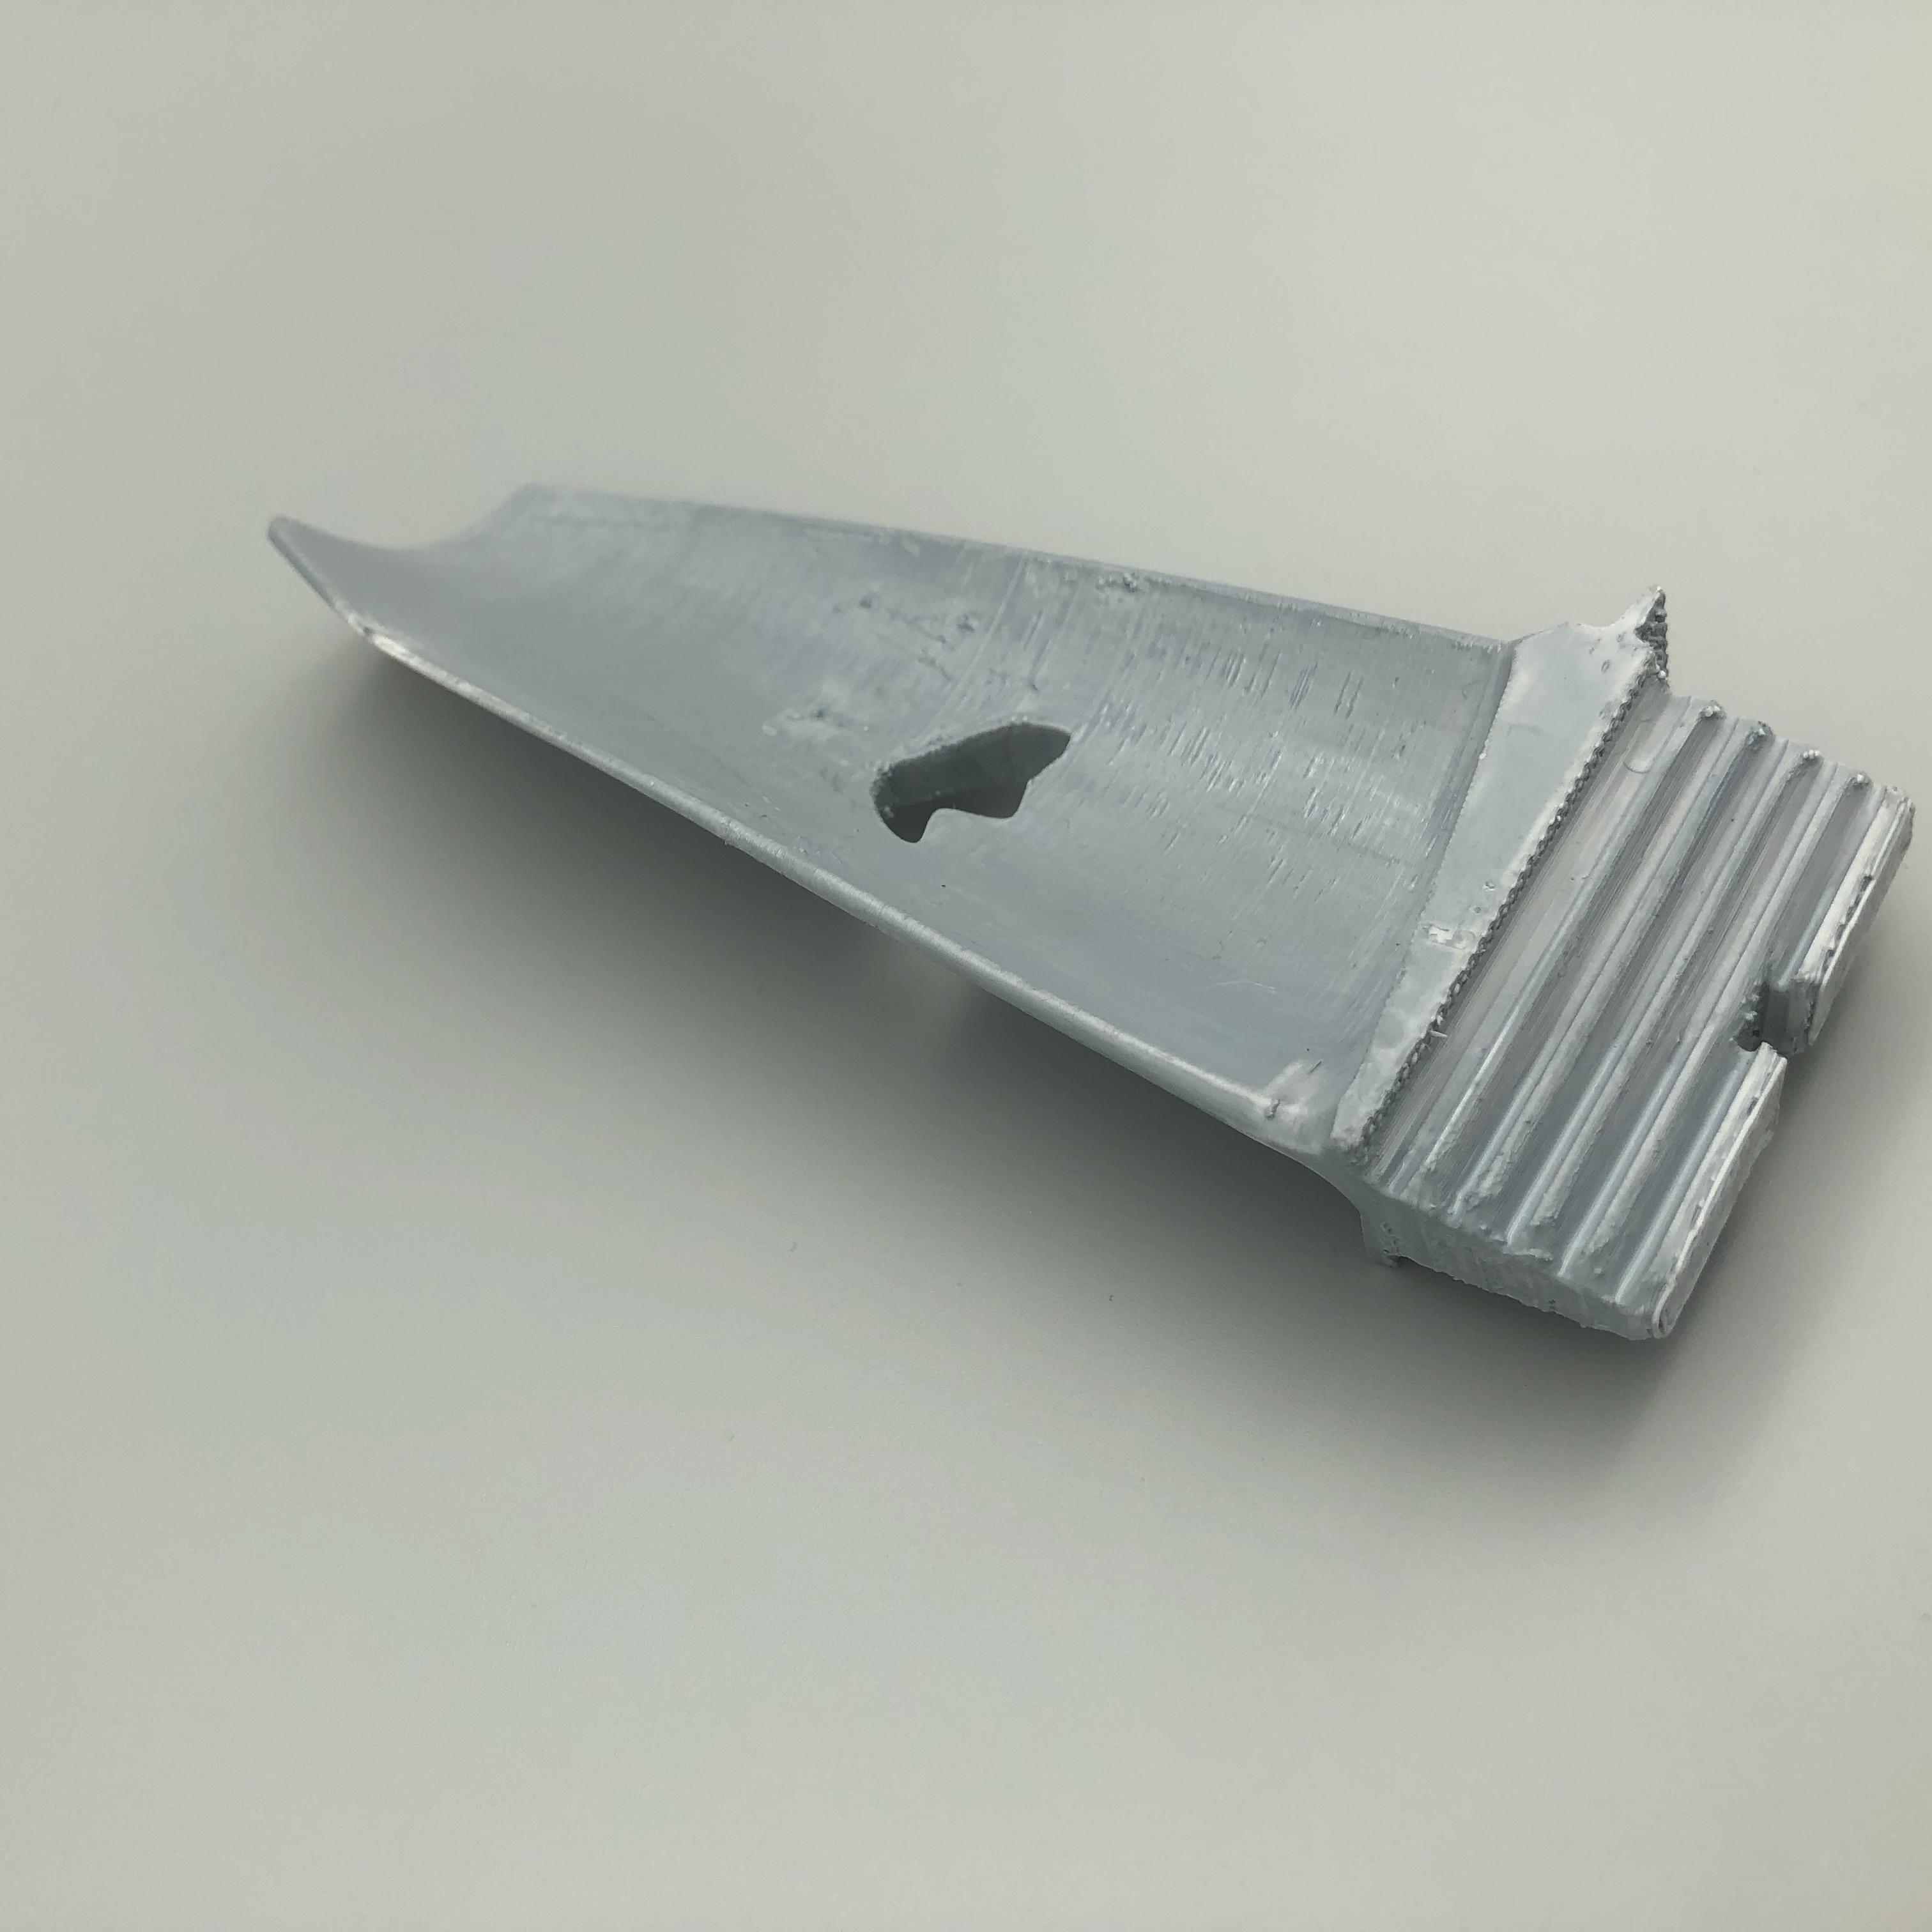breakdown: (862, 701, 1097, 860)
